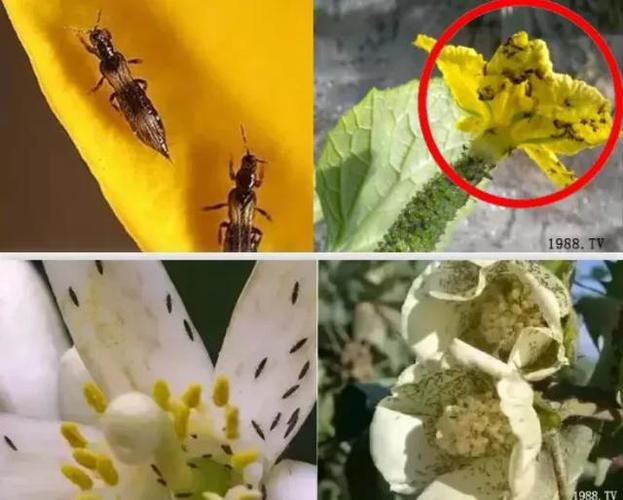Phlaeothripidae: (65, 11, 179, 167), (202, 120, 276, 251), (268, 404, 285, 432), (284, 408, 297, 442), (248, 419, 266, 442), (66, 287, 83, 311), (288, 335, 307, 356), (280, 383, 302, 401), (181, 316, 195, 344), (253, 355, 268, 380), (290, 275, 302, 305), (295, 357, 310, 381), (163, 287, 175, 316)
